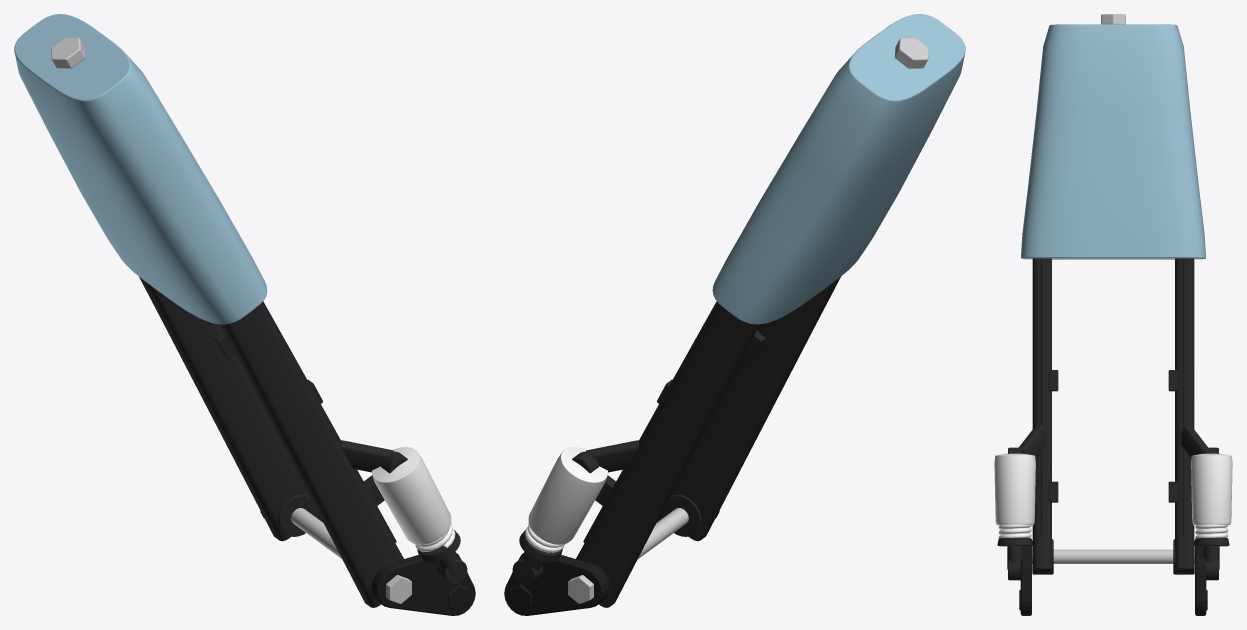
Rendered from bike_step_through__forks.glb.
3 views of the same model, side by side, from view 1: azimuth 30°, elevation 25°; view 2: azimuth 150°, elevation 25°; view 3: azimuth 270°, elevation 25° (orthographic). The views are drawn at different scales.
Parts seen in each view (by area): view 1: chassis__front_fork__top_cover, chassis__front_fork__legs, chassis__front_fork__shock_covers, chassis__front_fork__links, chassis__front_fork__left_shock__body, chassis__front_fork__pivot_bolts, chassis__steering__top_bridge; view 2: chassis__front_fork__top_cover, chassis__front_fork__legs, chassis__front_fork__shock_covers, chassis__front_fork__links, chassis__front_fork__right_shock__body, chassis__front_fork__pivot_bolts, chassis__steering__top_bridge; view 3: chassis__front_fork__top_cover, chassis__front_fork__legs, chassis__front_fork__shock_covers, chassis__front_fork__pivot_bolts, chassis__front_fork__links, chassis__front_fork__right_shock__body, chassis__front_fork__left_shock__body, chassis__front_fork__right_shock__spring, chassis__front_fork__left_shock__spring.
Part boxes in pixels (bbox=[...]): chassis__front_fork__top_cover: bbox=[14, 14, 267, 324]; chassis__front_fork__legs: bbox=[139, 277, 403, 607]; chassis__front_fork__shock_covers: bbox=[372, 447, 451, 544]; chassis__front_fork__links: bbox=[260, 511, 475, 615]; chassis__front_fork__left_shock__body: bbox=[381, 451, 467, 584]; chassis__front_fork__pivot_bolts: bbox=[291, 508, 411, 603]; chassis__steering__top_bridge: bbox=[51, 37, 85, 68]; chassis__front_fork__top_cover: bbox=[712, 14, 965, 324]; chassis__front_fork__legs: bbox=[576, 277, 840, 607]; chassis__front_fork__shock_covers: bbox=[528, 447, 607, 544]; chassis__front_fork__links: bbox=[504, 511, 719, 615]; chassis__front_fork__right_shock__body: bbox=[512, 451, 598, 584]; chassis__front_fork__pivot_bolts: bbox=[568, 508, 688, 603]; chassis__steering__top_bridge: bbox=[894, 37, 928, 68]; chassis__front_fork__top_cover: bbox=[1021, 24, 1205, 259]; chassis__front_fork__legs: bbox=[1019, 258, 1207, 574]; chassis__front_fork__shock_covers: bbox=[994, 453, 1232, 525]; chassis__front_fork__pivot_bolts: bbox=[1032, 549, 1194, 563]; chassis__front_fork__links: bbox=[1019, 546, 1207, 615]; chassis__front_fork__right_shock__body: bbox=[1194, 447, 1229, 580]; chassis__front_fork__left_shock__body: bbox=[997, 447, 1032, 580]; chassis__front_fork__right_shock__spring: bbox=[1195, 524, 1228, 538]; chassis__front_fork__left_shock__spring: bbox=[998, 524, 1031, 538].
Size of the model in its own units: 42.25 by 66.03 by 29.8.
